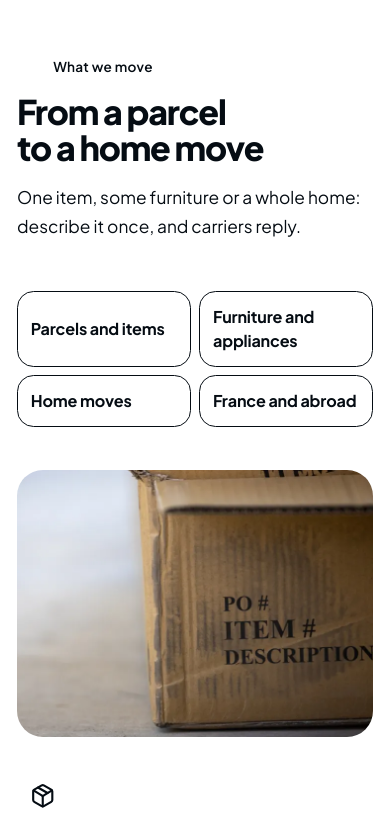
« What we move » tabs › sends a move to the moving form and everything else to /create
Click the tab "Home moves" at [104, 401], box [17,375,191,427]
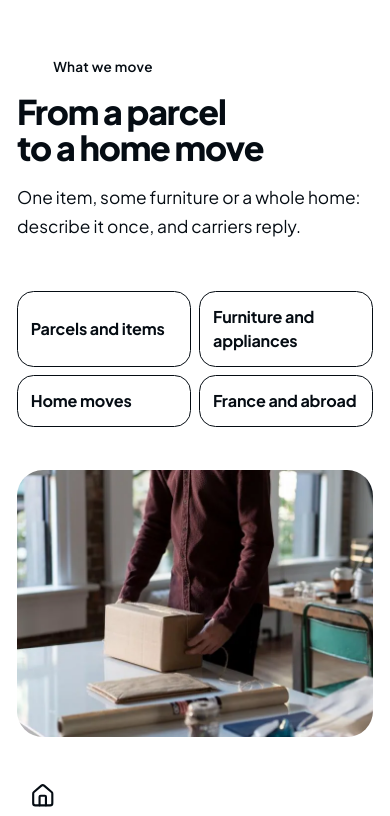
Click the tab "France and abroad" at [286, 401], box [199,375,373,427]
(page scrolled)
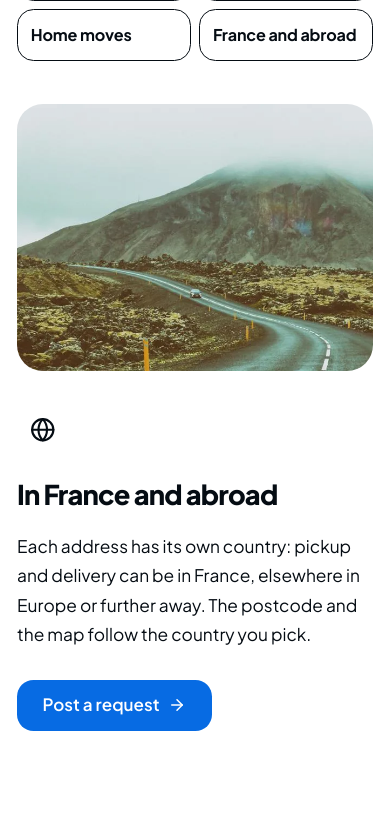
Now the link "Post a request" has attribute href="/create", box [17,680,212,731]
